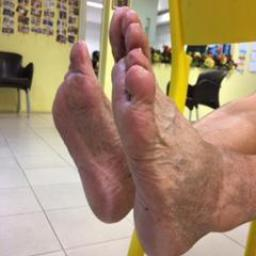Lateral View -Left Foot-: (98, 1, 255, 255)
